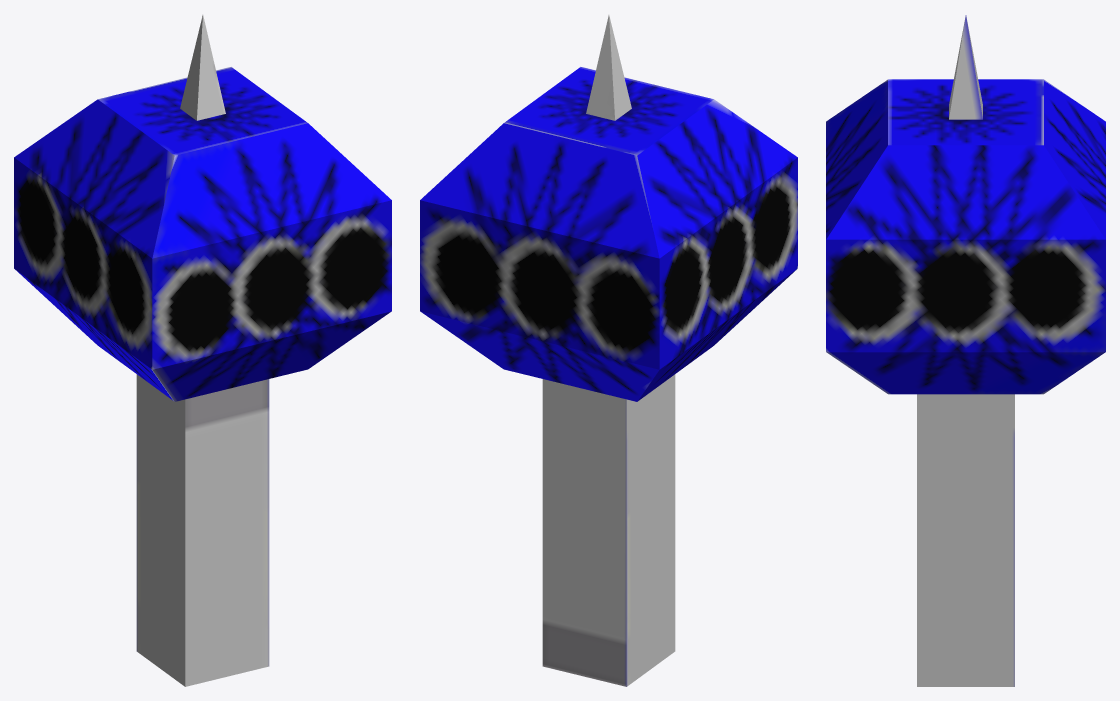
Rendered from antenna.obj.
The picture shows the model from 3 angles, left to right: view 1: azimuth 30°, elevation 25°; view 2: azimuth 150°, elevation 25°; view 3: azimuth 270°, elevation 25°; orthographic projection.
Visible parts, largest first — view 1: Cube; view 2: Cube; view 3: Cube.
Part boxes in pixels (x1,y1,x2,y2): Cube: (14, 15, 391, 686); Cube: (420, 15, 797, 686); Cube: (826, 15, 1105, 686).
Size of the model in its own units: 2 by 5.15 by 2.
1 material, 1 textured.
